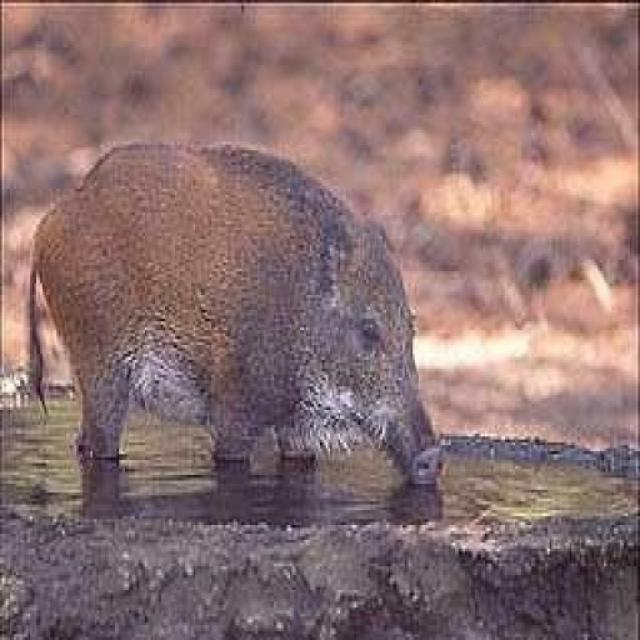pig: (20, 93, 472, 536)
